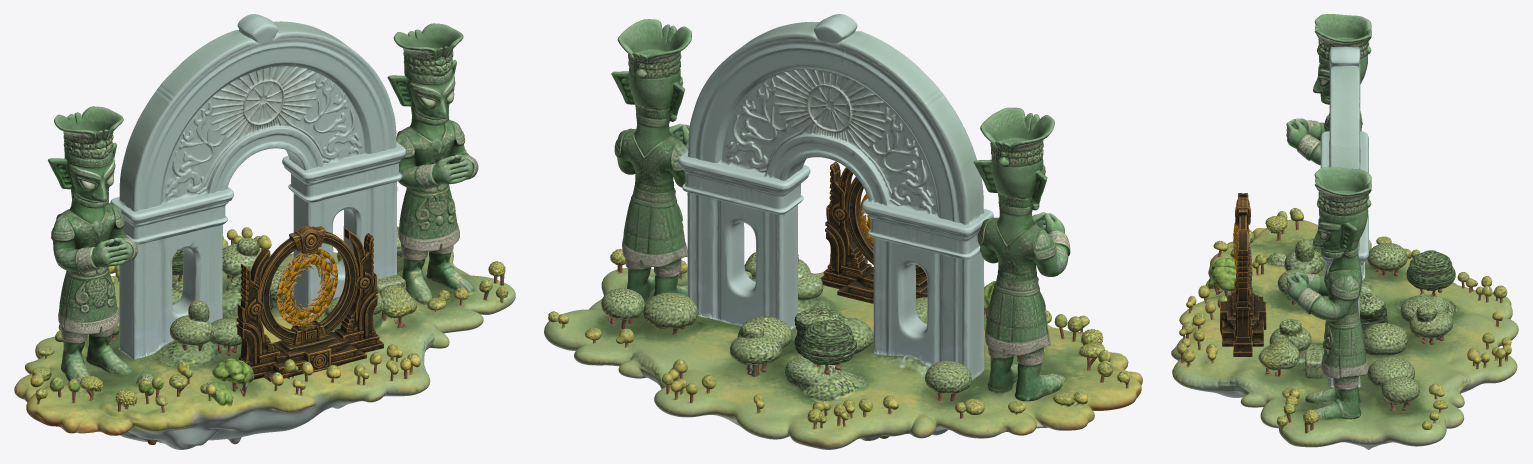
File: 15-civilization-gate.glb
The picture shows the model from 3 angles, left to right: view 1: azimuth 30°, elevation 25°; view 2: azimuth 150°, elevation 25°; view 3: azimuth 270°, elevation 25°; orthographic projection. The views are drawn at different scales.
Visible parts, largest first — view 1: tripo_node_bbcc85b6-3ad8-422b-b677-e2766067ee58, Meshy_AI_Aureate_Vortex_Gate_0817200025_texture, Meshy_AI_Golden_Vortex_Emblem_0817192120_texture; view 2: tripo_node_bbcc85b6-3ad8-422b-b677-e2766067ee58, Meshy_AI_Aureate_Vortex_Gate_0817200025_texture; view 3: tripo_node_bbcc85b6-3ad8-422b-b677-e2766067ee58, Meshy_AI_Aureate_Vortex_Gate_0817200025_texture, Meshy_AI_Golden_Vortex_Emblem_0817192120_texture.
Part boxes in pixels (x1,y1,x2,y2): tripo_node_bbcc85b6-3ad8-422b-b677-e2766067ee58: (14, 14, 515, 449); Meshy_AI_Aureate_Vortex_Gate_0817200025_texture: (236, 226, 383, 381); Meshy_AI_Golden_Vortex_Emblem_0817192120_texture: (276, 248, 337, 325); tripo_node_bbcc85b6-3ad8-422b-b677-e2766067ee58: (544, 14, 1142, 449); Meshy_AI_Aureate_Vortex_Gate_0817200025_texture: (820, 161, 927, 303); tripo_node_bbcc85b6-3ad8-422b-b677-e2766067ee58: (1171, 14, 1518, 449); Meshy_AI_Aureate_Vortex_Gate_0817200025_texture: (1220, 193, 1266, 356); Meshy_AI_Golden_Vortex_Emblem_0817192120_texture: (1233, 222, 1252, 290).
Bounding box in the file's own units: 6.5 × 4.94 × 4.33.
3 materials, 3 textured.
